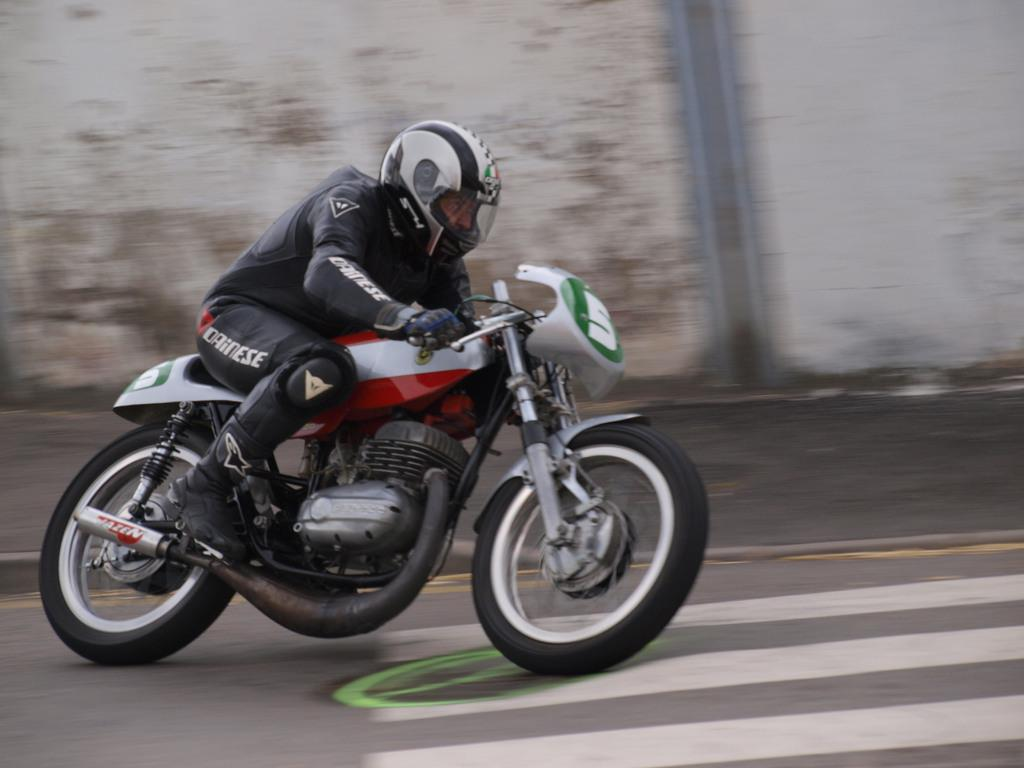helmet: (378, 119, 503, 266)
